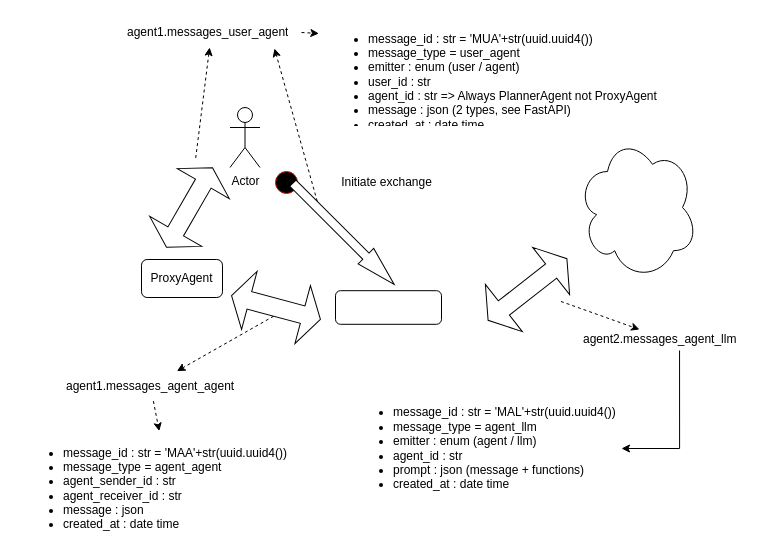
Some shapes in this 774 by 554 pixel diagram are drawn without their labels. The centre of each missing label's shape, as x and y in pixels:
LLM: point 637,207
PlannerAgent: point 388,307
